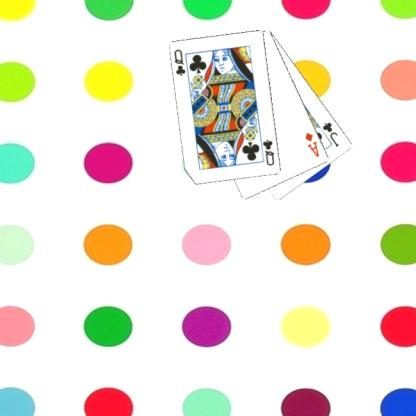AD: (302, 129, 320, 159)
JC: (320, 119, 340, 149)
QC: (260, 137, 276, 167), (171, 47, 187, 77)
